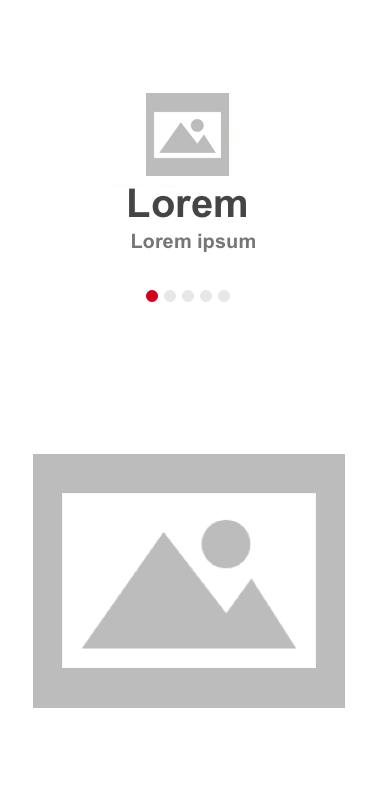Image: (33, 454, 346, 709), (146, 93, 230, 177)
PageIndicator: (146, 290, 231, 304)
Text: (129, 188, 247, 219), (132, 233, 256, 253)
